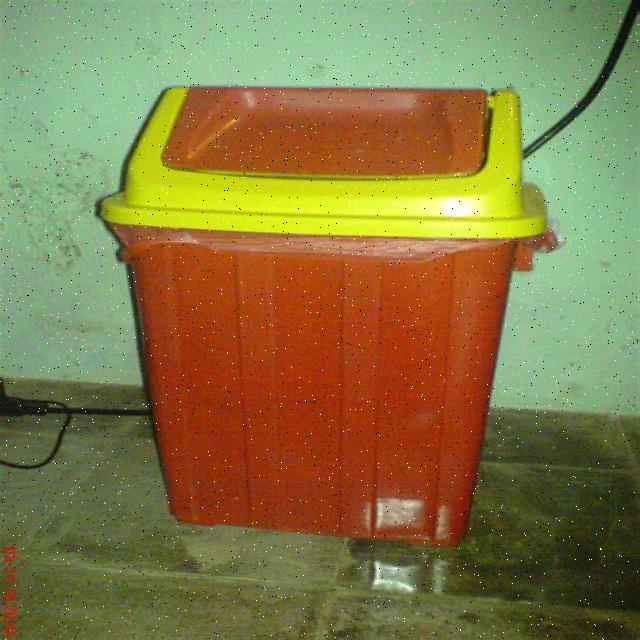garbage container: (120, 62, 558, 561)
